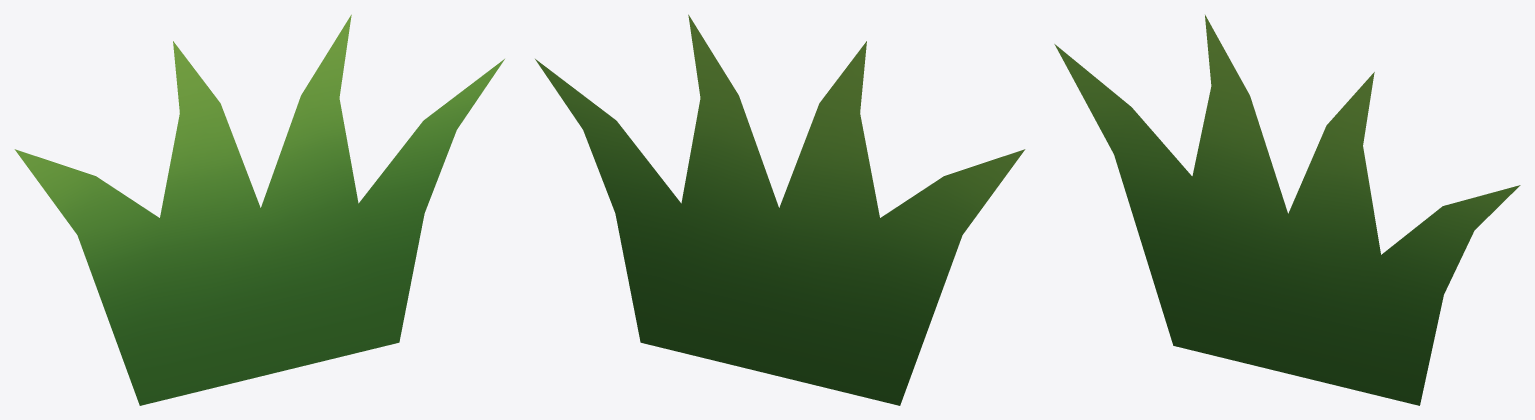
The model's file is rc_01_plt_06_01.FBX.
3 views of the same model, side by side, from view 1: azimuth 30°, elevation 25°; view 2: azimuth 150°, elevation 25°; view 3: azimuth 330°, elevation 25° (orthographic). The views are drawn at different scales.
Visible parts, largest first — view 1: rc_01_plt_06_01; view 2: rc_01_plt_06_01; view 3: rc_01_plt_06_01.
Part boxes in pixels (x1,y1,x2,y2): rc_01_plt_06_01: (14,14,504,405); rc_01_plt_06_01: (535,14,1025,405); rc_01_plt_06_01: (1054,15,1520,405).
Bounding box in the file's own units: 227 × 158 × 2.42e-05.
